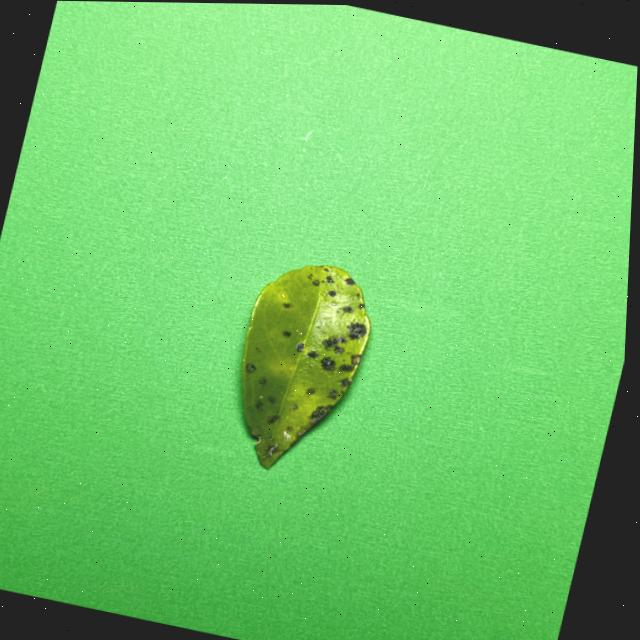sooty_mold: (241, 264, 370, 468)
